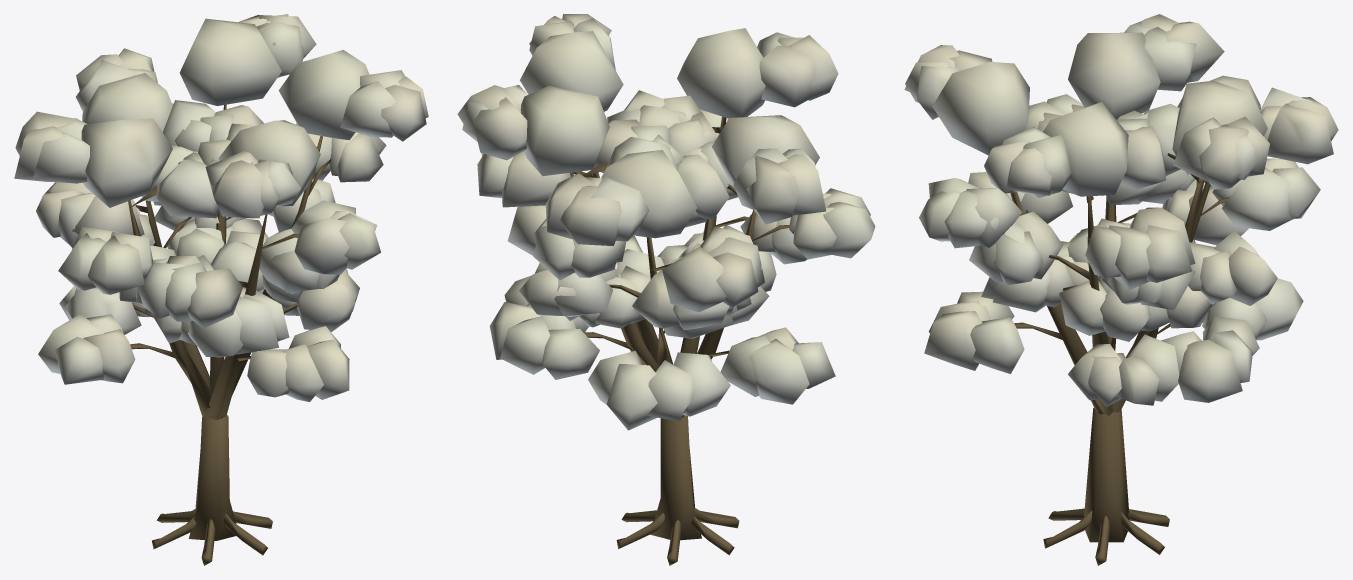
3 renders of one model, left to right at view 1: azimuth 30°, elevation 25°; view 2: azimuth 150°, elevation 25°; view 3: azimuth 270°, elevation 25°, orthographic. The views are drawn at different scales.
Parts seen in each view (by area): view 1: crown, trunk; view 2: crown, trunk; view 3: crown, trunk.
Part boxes in pixels (<box>): crown: <box>14,14,428,401</box>; trunk: <box>128,104,331,565</box>; crown: <box>457,14,875,430</box>; trunk: <box>570,116,789,565</box>; crown: <box>904,14,1338,406</box>; trunk: <box>1010,153,1229,565</box>.
Size of the model in its own units: 11.39 by 14.21 by 11.49.
